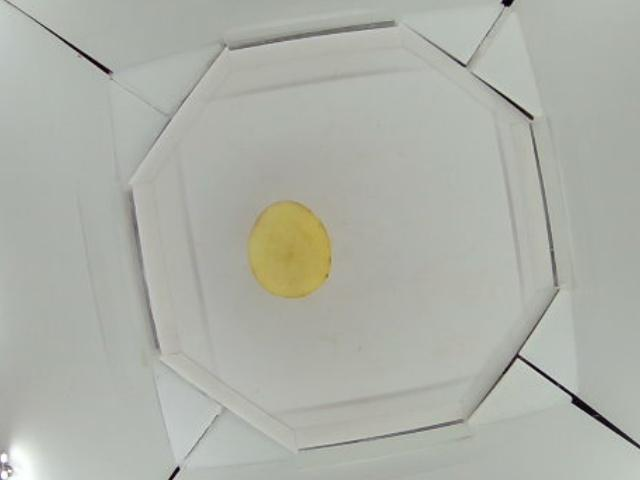Potato: (250, 198, 335, 300)
